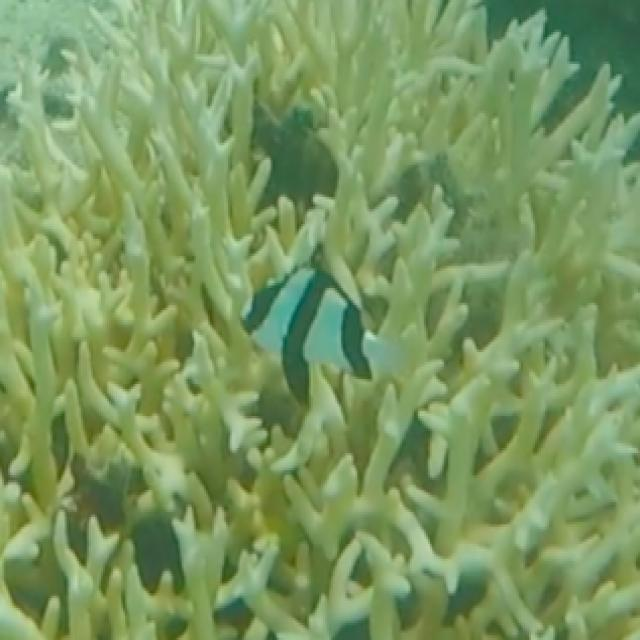Three_striped DasmselFish: (236, 261, 391, 403)
